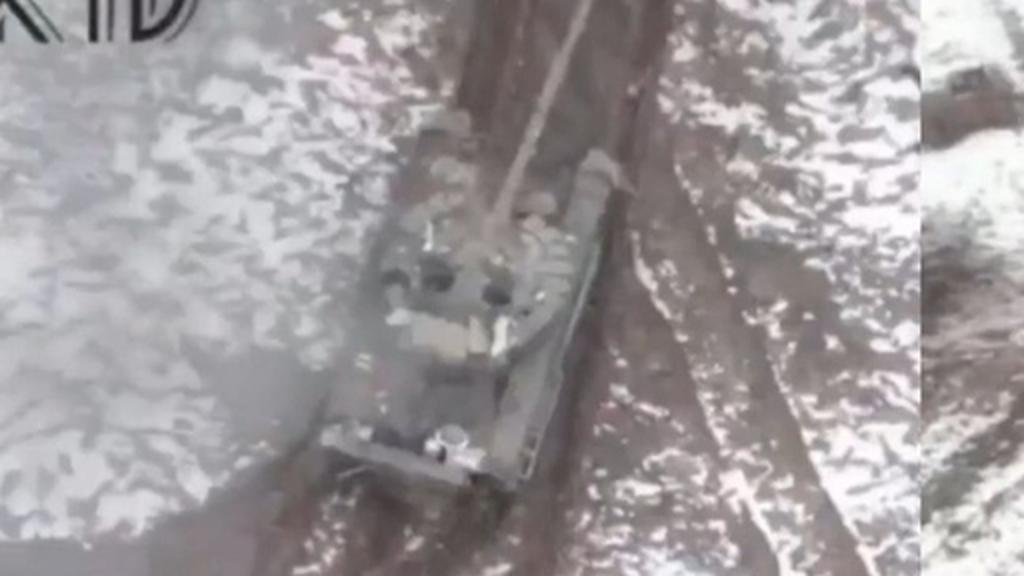TANK: (286, 2, 634, 532)
